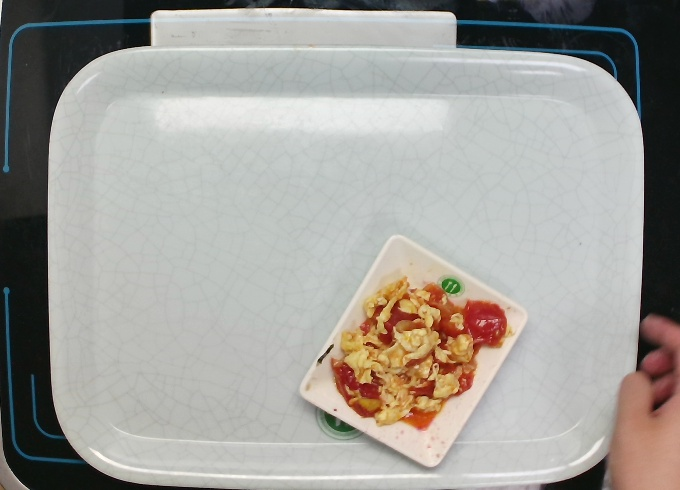WCQzf-Bai_Se_Si_Fang_Die: (296, 225, 536, 477)
